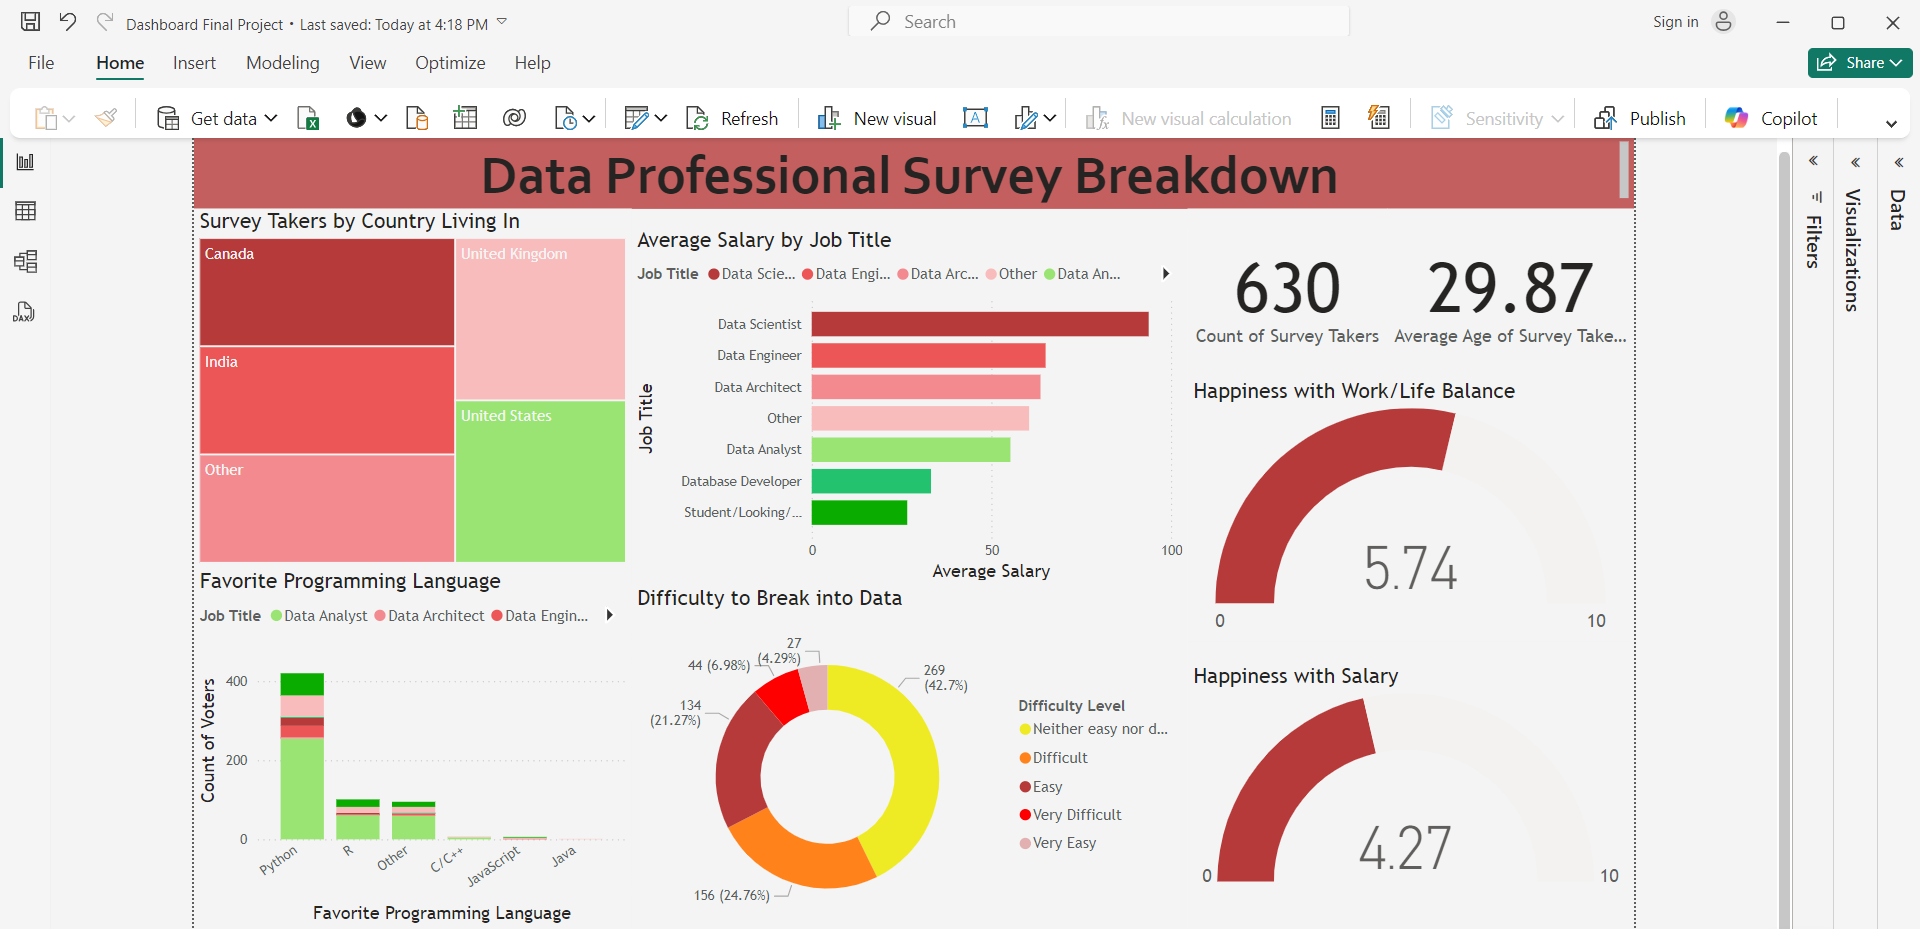

The page's visual inventory and layout, read from the dashboard file:
{"tool":"powerbi","page":{"name":"Page 1","canvas":[1280,720],"ordinal":0},"visuals":[{"type":"textbox","box":[0,0,1280.3,64.5],"z":0},{"type":"card","fields":{"Values":["Avg(Data Professional Survey.Q10 - Current Age)"]},"box":[1061.5,64.6,218.8,151.2],"z":1000},{"type":"card","fields":{"Values":["Count(Data Professional Survey.Unique ID)"]},"box":[883.9,64.6,177.7,151.2],"z":2000},{"type":"barChart","title":"Average Salary by Job Title","fields":{"Category":["Data Professional Survey.Q1 - Which Title Best Fits your Current Role?.1"],"Y":["Avg(Data Professional Survey.Average Salary)"],"Series":["Data Professional Survey.Q1 - Which Title Best Fits your Current Role?.1"]},"box":[389.1,80.8,494.8,318.6],"z":3000},{"type":"columnChart","title":"Favorite Programming Language","fields":{"Category":["Data Professional Survey.Q5 - Favorite Programming Language.1"],"Y":["CountNonNull(Data Professional Survey.Unique ID)"],"Series":["Data Professional Survey.Q1 - Which Title Best Fits your Current Role?.1"]},"box":[0,384.7,389.1,320.1],"z":4000},{"type":"treemap","fields":{"Group":["Data Professional Survey.Q11 - Which Country do you live in?.1"],"Values":["Count(Data Professional Survey.Q11 - Which Country do you live in?.1)"]},"box":[0,64.6,389.1,320.1],"z":5000},{"type":"gauge","title":"Happiness with Work/Life Balance","fields":{"Y":["Avg(Data Professional Survey.Q6 - How Happy are you in your Current Position with the following? (Work/Life Balance))"],"MinValue":["Min(Data Professional Survey.Q6 - How Happy are you in your Current Position with the following? (Work/Life Balance))"],"MaxValue":["Max(Data Professional Survey.Q6 - How Happy are you in your Current Position with the following? (Work/Life Balance))1"]},"box":[883.9,215.8,396.4,233.4],"z":6000},{"type":"gauge","title":"Happiness with Salary","fields":{"Y":["Avg(Data Professional Survey.Q6 - How Happy are you in your Current Position with the following? (Salary))"],"MinValue":["Min(Data Professional Survey.Q6 - How Happy are you in your Current Position with the following? (Salary))"],"MaxValue":["Max(Data Professional Survey.Q6 - How Happy are you in your Current Position with the following? (Salary))"]},"box":[883.9,468.4,396.4,204.1],"z":7000},{"type":"donutChart","title":"Difficulty to Break into Data","fields":{"Category":["Data Professional Survey.Q7 - How difficult was it for you to break into Data?"],"Y":["CountNonNull(Data Professional Survey.Q7 - How difficult was it for you to break into Data?)"]},"box":[389.1,399.4,494.8,320.1],"z":8000}]}

Visuals, with their boxes on the page's 1280x720 design canvas (x1, y1, x2, y2). These are canvas units, not pixel positions in the 1920x929 screenshot, which may show the page scaled, cropped or inside an application window:
textbox: [0,0,1280,64]
card - Avg(Data Professional Survey.Q10 - Current Age): [1062,65,1280,216]
card - Count(Data Professional Survey.Unique ID): [884,65,1062,216]
"Average Salary by Job Title" barChart: [389,81,884,399]
"Favorite Programming Language" columnChart: [0,385,389,705]
treemap - Data Professional Survey.Q11 - Which Country do you live in?.1 x Count(Data Professional Survey.Q11 - Which Country do you live in?.1): [0,65,389,385]
"Happiness with Work/Life Balance" gauge: [884,216,1280,449]
"Happiness with Salary" gauge: [884,468,1280,672]
"Difficulty to Break into Data" donutChart: [389,399,884,720]
